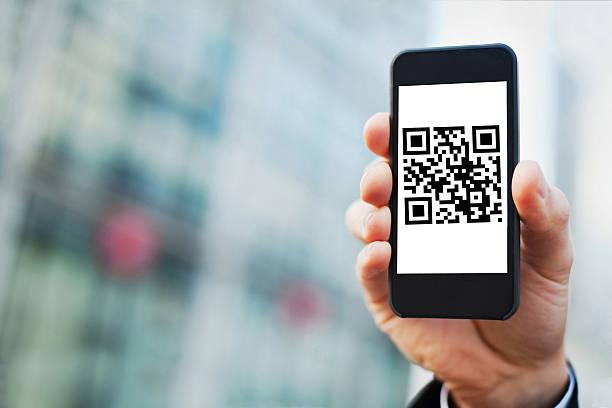Finder pattern: (401, 194, 435, 228), (399, 126, 433, 158), (470, 123, 502, 155)
